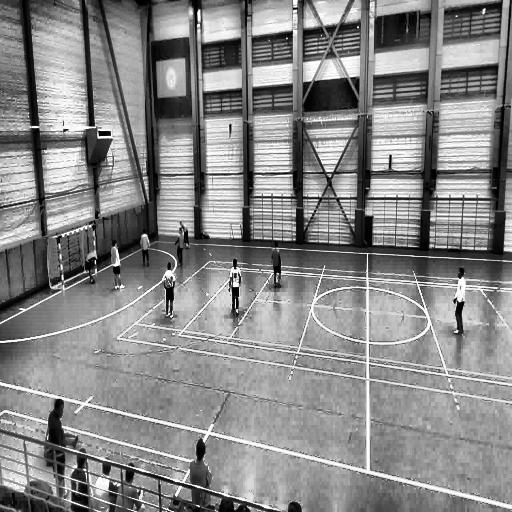player: (44, 400, 72, 502), (452, 266, 466, 336), (228, 258, 242, 316), (163, 260, 176, 318), (111, 240, 125, 290), (272, 241, 282, 288), (174, 227, 185, 269), (87, 246, 98, 284), (140, 228, 150, 267), (179, 219, 191, 251)
